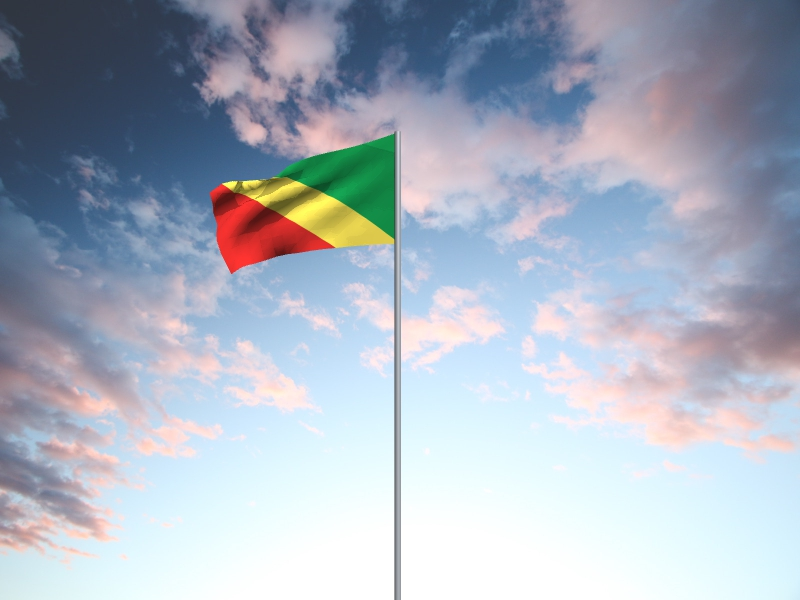cg: (210, 134, 394, 276)
